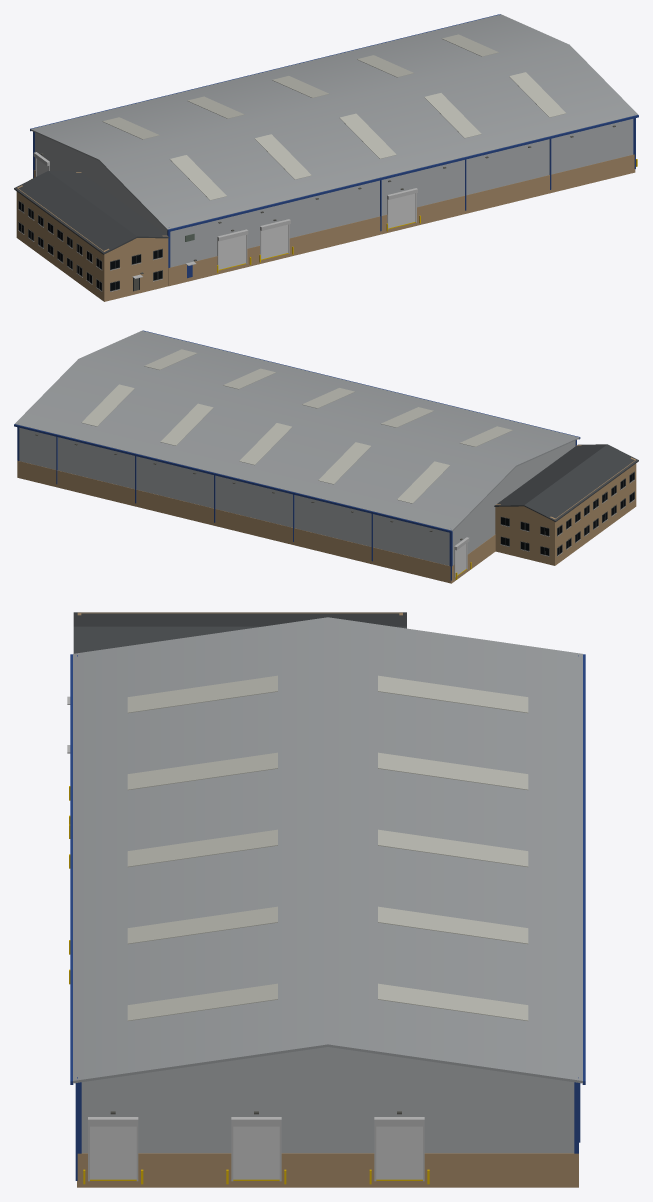
The model's file is context.industrial.office_annex.glb.
3 views of the same model, one above another, from view 1: azimuth 30°, elevation 25°; view 2: azimuth 150°, elevation 25°; view 3: azimuth 270°, elevation 25° (orthographic). The views are drawn at different scales.
Visible parts, largest first — view 1: main__clad_999, main__clad_aab, main__brick_a86, main__lens_bbb, main__tile_444, main__steel_248, main__galv_ccc, main__steel_bbb, main__glass_dark, main__paint_555; view 2: main__clad_999, main__clad_aab, main__brick_a86, main__lens_bbb, main__tile_444, main__steel_248, main__glass_dark, main__paint_555, main__steel_bbb; view 3: main__clad_999, main__clad_aab, main__lens_bbb, main__brick_a86, main__galv_ccc, main__tile_444, main__steel_248, main__steel_bbb.
Boxes of the visible parts, <box> form: main__clad_999: <box>30,14,638,230</box>; main__clad_aab: <box>35,119,633,267</box>; main__brick_a86: <box>16,154,635,301</box>; main__lens_bbb: <box>102,34,566,200</box>; main__tile_444: <box>14,171,169,254</box>; main__steel_248: <box>30,14,638,267</box>; main__galv_ccc: <box>37,159,415,269</box>; main__steel_bbb: <box>18,152,417,291</box>; main__glass_dark: <box>19,201,162,291</box>; main__paint_555: <box>18,125,615,291</box>; main__clad_999: <box>15,330,579,531</box>; main__clad_aab: <box>19,427,575,565</box>; main__brick_a86: <box>17,445,636,583</box>; main__lens_bbb: <box>81,349,512,503</box>; main__tile_444: <box>494,444,638,522</box>; main__steel_248: <box>14,330,580,580</box>; main__glass_dark: <box>501,472,634,555</box>; main__paint_555: <box>35,434,634,556</box>; main__steel_bbb: <box>454,480,634,578</box>; main__clad_999: <box>73,617,582,1083</box>; main__clad_aab: <box>81,1047,574,1153</box>; main__lens_bbb: <box>127,675,528,1020</box>; main__brick_a86: <box>77,612,578,1187</box>; main__galv_ccc: <box>90,1126,422,1179</box>; main__tile_444: <box>73,612,406,653</box>; main__steel_248: <box>70,654,585,1180</box>; main__steel_bbb: <box>67,696,424,1181</box>.
Size of the model in its own units: 91.98 by 12.77 by 41.36.
